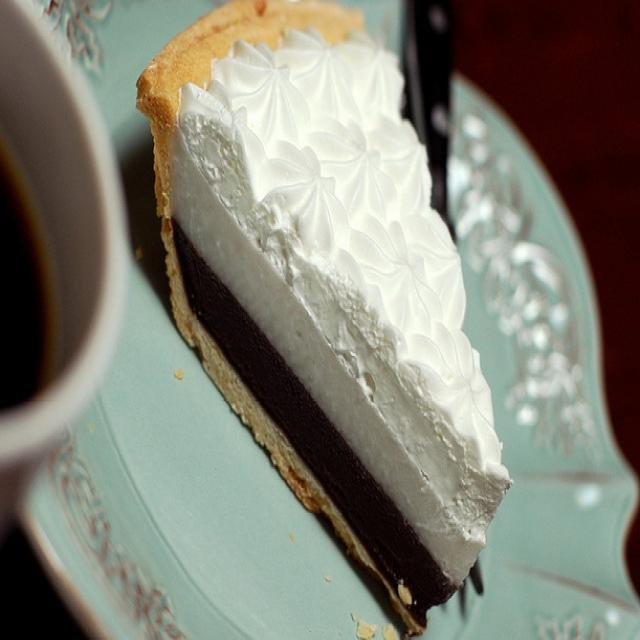蛋糕甜品: (91, 23, 540, 615)
